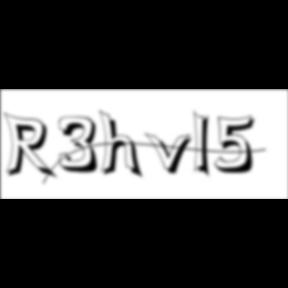3: (59, 116, 105, 176)
5: (214, 114, 262, 176)
R: (3, 112, 60, 182)
h: (100, 108, 146, 182)
l: (194, 108, 216, 182)
v: (145, 131, 199, 177)
